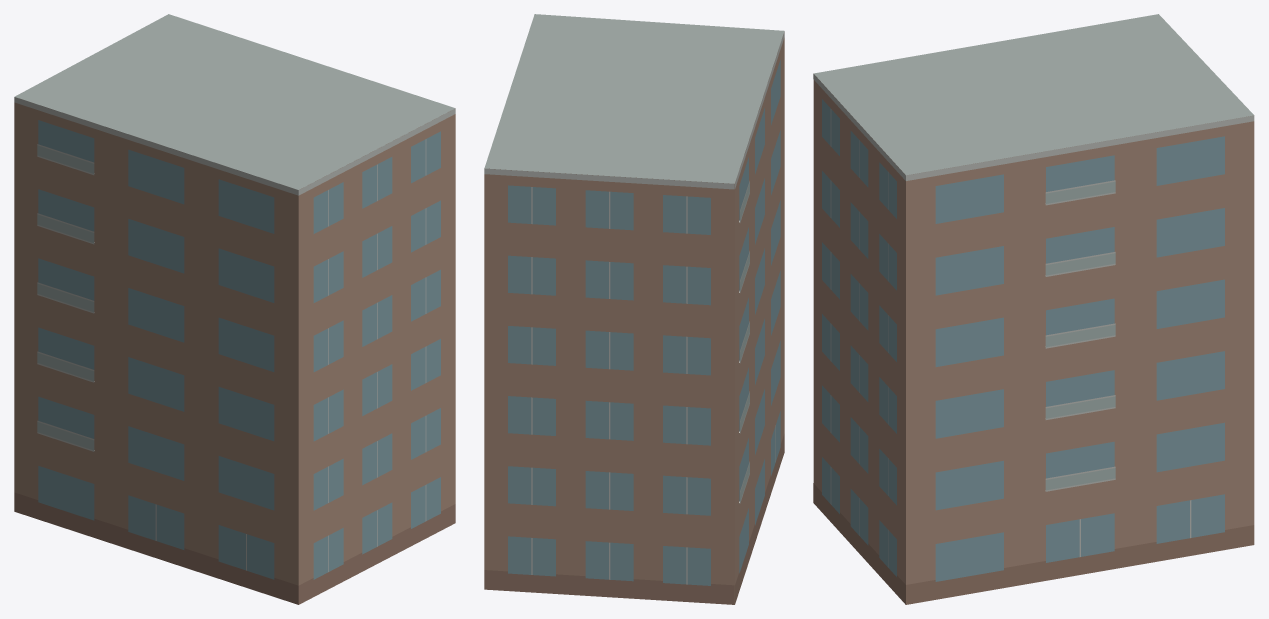
The model's file is survey-upis-32985266.glb.
3 views of the same model, side by side, from view 1: azimuth 30°, elevation 25°; view 2: azimuth 150°, elevation 25°; view 3: azimuth 270°, elevation 25° (orthographic). The views are drawn at different scales.
Visible parts, largest first — view 1: survey-upis-32985266.tmp; view 2: survey-upis-32985266.tmp; view 3: survey-upis-32985266.tmp.
Part boxes in pixels (x1,y1,x2,y2): survey-upis-32985266.tmp: [14, 14, 455, 604]; survey-upis-32985266.tmp: [484, 14, 784, 604]; survey-upis-32985266.tmp: [813, 14, 1254, 604].
Size of the model in its own units: 14.51 by 18 by 16.75.
